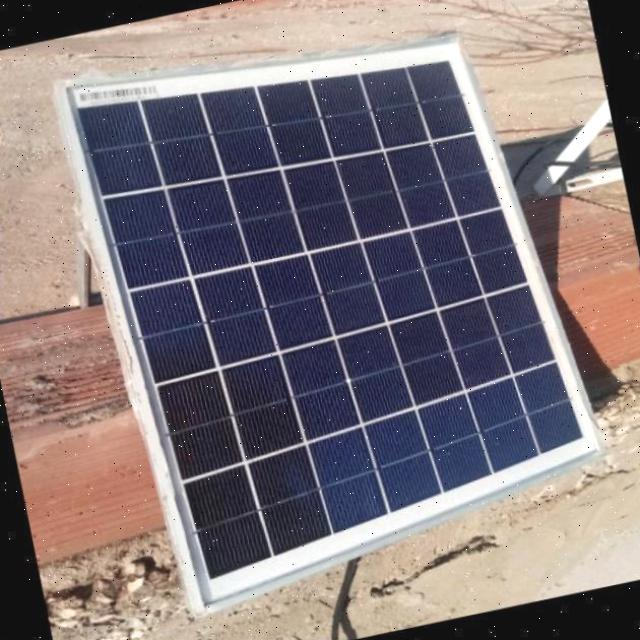Normal Solar Panel: (53, 0, 620, 622)
